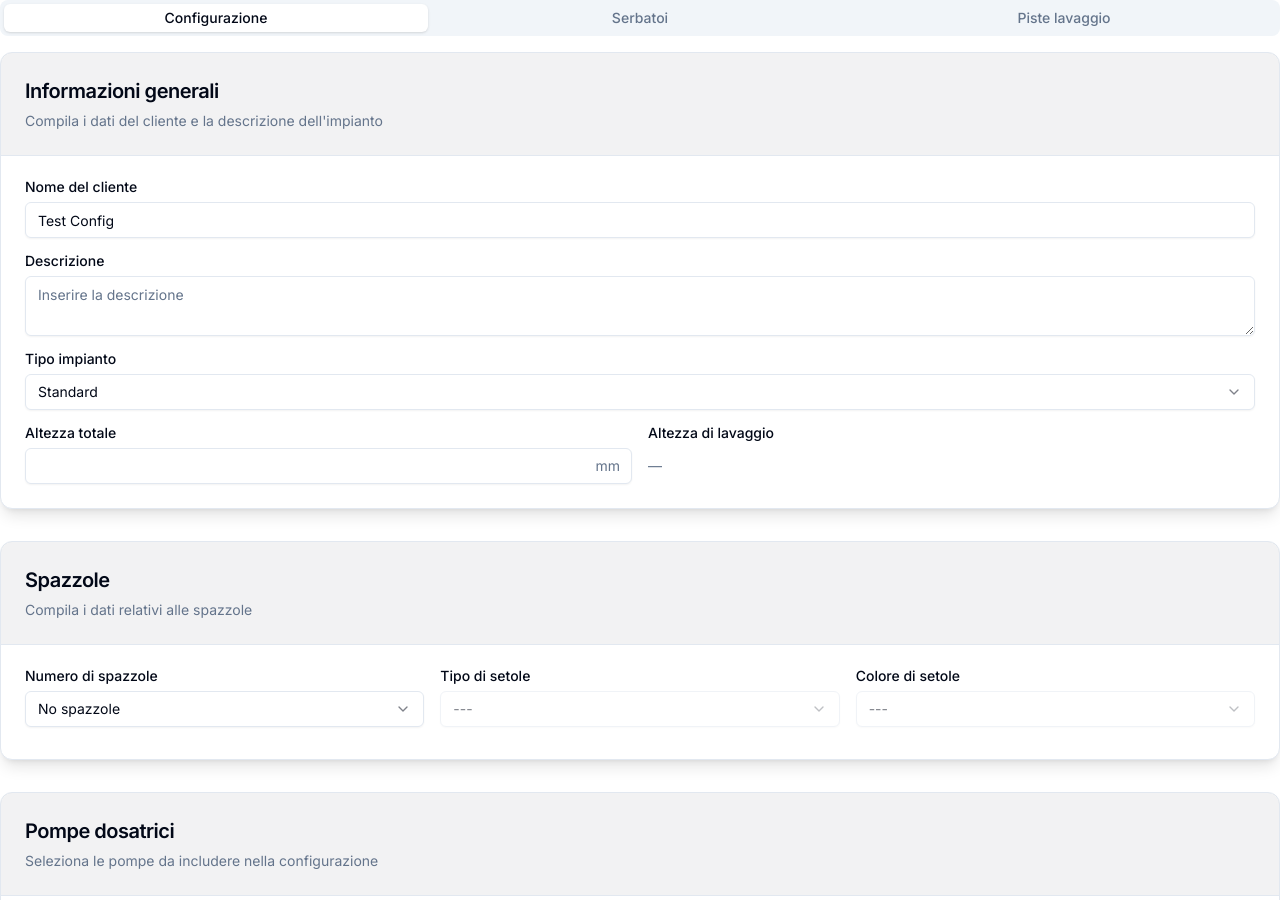
Scenario: FormContainer › Edit configuration with tabs › switching to Serbatoi tab shows water tank management
This screenshot has width=1280, height=900.
Step 1. Click the tab "Serbatoi" → (640, 18), box left=428, top=4, right=852, bottom=32
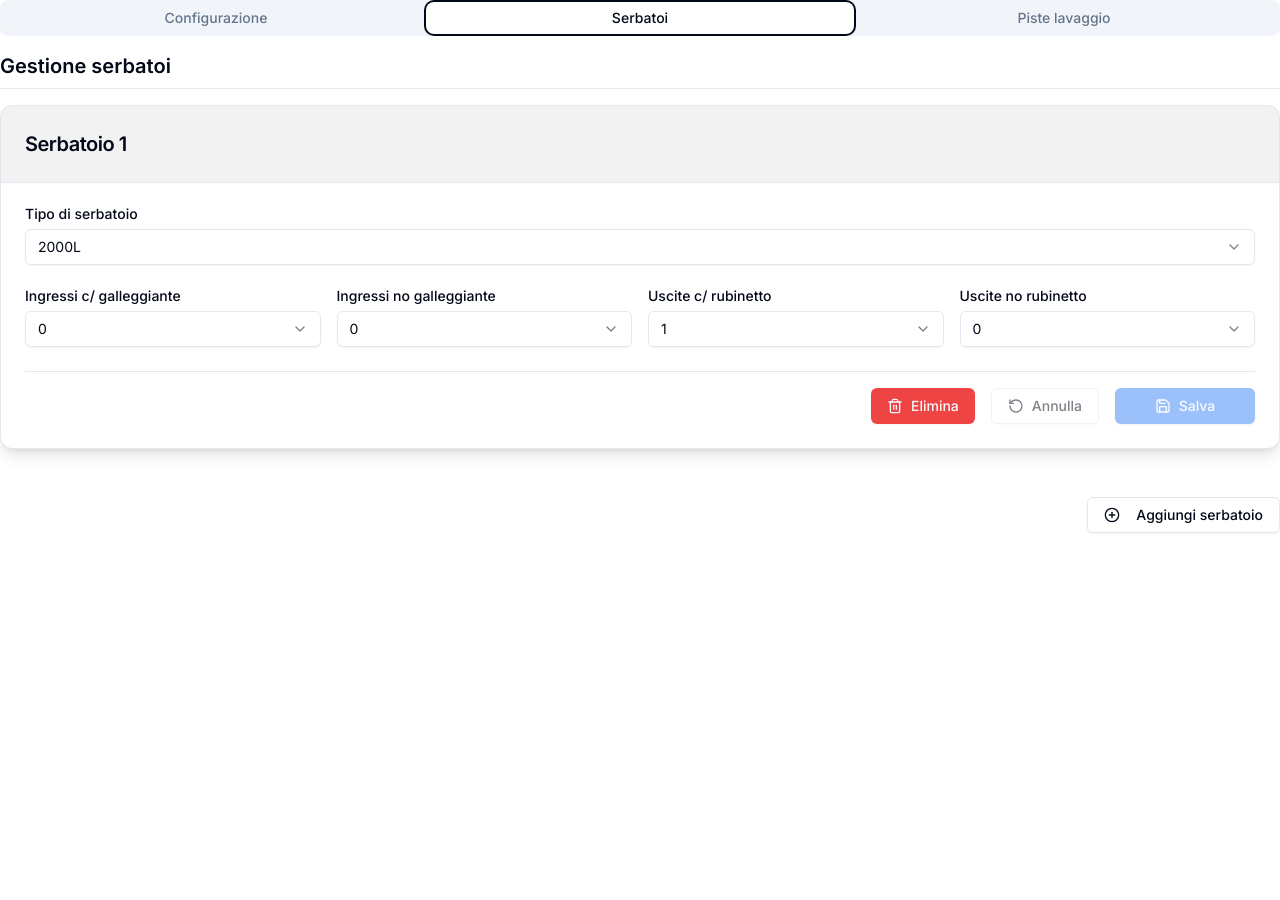
Expected: the heading "Gestione serbatoi" is shown, left=0, top=52, right=1279, bottom=89
Expected: the text "Serbatoio 1" is shown, left=25, top=132, right=127, bottom=156
